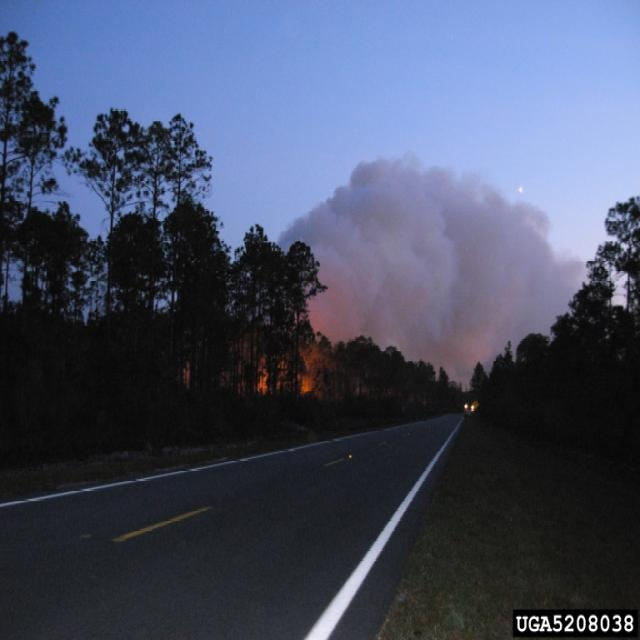Smoke: (276, 149, 586, 394)
